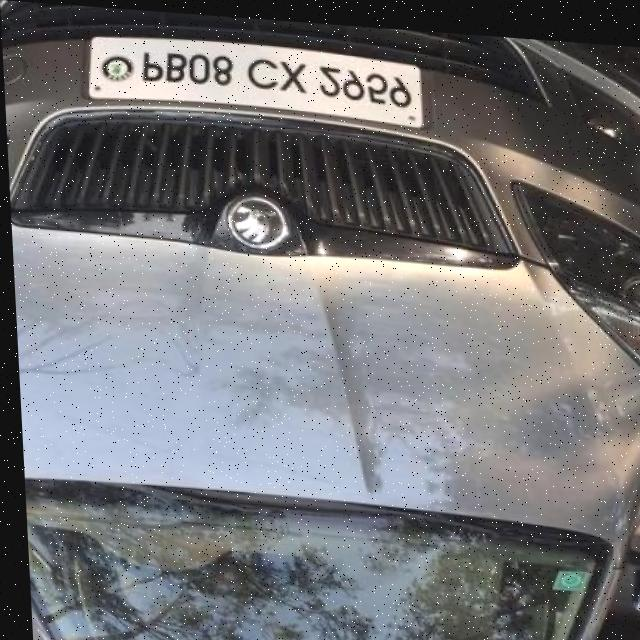plate: (79, 36, 427, 119)
